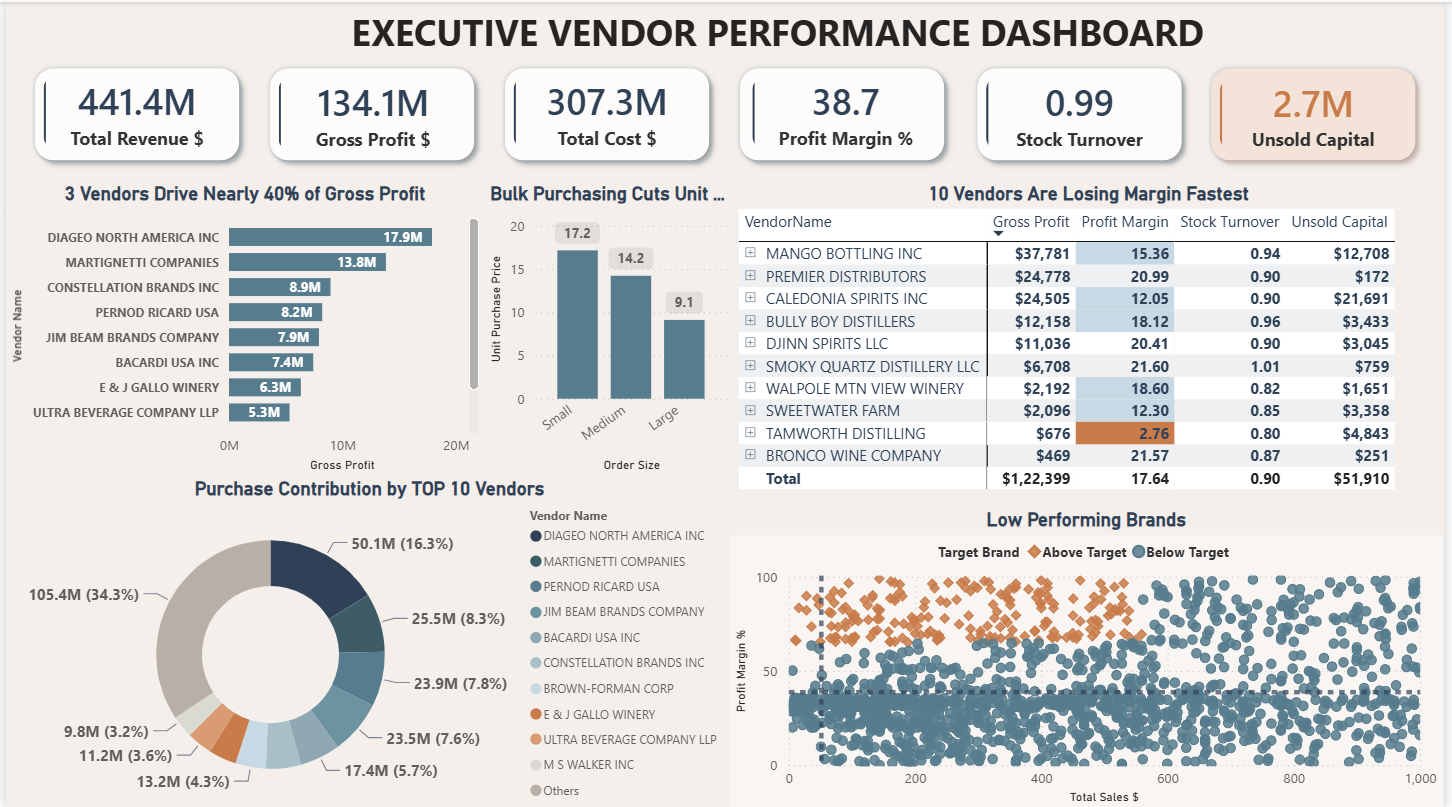

What the dashboard file says about the page in this screenshot:
{"tool":"powerbi","page":{"name":"Page 1","canvas":[1280,720],"ordinal":0},"visuals":[{"type":"shape","box":[644.8,50,200,100],"z":0},{"type":"shape","box":[16.2,50,200,100],"z":1000},{"type":"shape","box":[225.8,50,200,100],"z":2000},{"type":"shape","box":[1063.8,50,200,100],"z":3000},{"type":"shape","box":[435.2,50,200,100],"z":4000},{"type":"cardVisual","fields":{"Data":["Sum(vendor_sales_summary.TotalSalesDollars)"]},"box":[16.2,47.5,200,101.2],"z":5000},{"type":"cardVisual","fields":{"Data":["Sum(vendor_sales_summary.GrossProfit)"]},"box":[226.2,48.8,202.5,102.5],"z":7000},{"type":"cardVisual","fields":{"Data":["Avg(vendor_sales_summary.ProfitMargin)"]},"box":[647.5,48.8,200,100],"z":7500},{"type":"cardVisual","fields":{"Data":["Sum(vendor_sales_summary.TotalPurchaseDollars)"]},"box":[435,48.8,200,100],"z":8000},{"type":"cardVisual","fields":{"Data":["Sum(vendor_sales_summary.UnsoldCapital)"]},"box":[1063.8,50,200,100],"z":9000},{"type":"clusteredBarChart","title":"3 Vendors Drive Nearly 40% of Gross Profit","fields":{"Category":["vendor_sales_summary.VendorName"],"Y":["Sum(vendor_sales_summary.GrossProfit)"]},"box":[0,160.5,425.9,263],"z":10000},{"type":"pivotTable","title":"10 Vendors Are Losing Margin Fastest","fields":{"Rows":["vendor_sales_summary.VendorName","vendor_sales_summary.Description"],"Values":["Sum(vendor_sales_summary.GrossProfit)","Avg(vendor_sales_summary.ProfitMargin)","Avg(vendor_sales_summary.StockTurnover)","Sum(vendor_sales_summary.UnsoldCapital)"]},"box":[647.5,160,632.5,291.2],"z":11000},{"type":"scatterChart","title":"Low Performing Brands","fields":{"X":["BrandPerformance.TotalSales"],"Y":["BrandPerformance.AvgProfitMargin"],"Series":["BrandPerformance.TargetBrand"]},"box":[645,451.2,635,268.8],"z":12000},{"type":"textbox","box":[226.2,0,922.5,56.2],"z":13000},{"type":"donutChart","title":"Purchase Contribution by TOP 10 Vendors","fields":{"Category":["VendorSummary.VendorGroup"],"Y":["Sum(VendorSummary.TotalPurchaseDollars)"]},"box":[0,422.5,647.5,297.5],"z":14000},{"type":"shape","box":[856.2,50,200,100],"z":16500},{"type":"cardVisual","fields":{"Data":["vendor_sales_summary.Vendor Stock Turnover"]},"box":[856.2,48.8,200,101.2],"z":16750},{"type":"clusteredColumnChart","title":"Bulk Purchasing Cuts Unit Cost","fields":{"Category":["vendor_sales_summary.OrderSize"],"Y":["BrandPerformance.Unit Purchase Price"]},"box":[425.9,160.5,222,263],"z":17000}]}

Visuals, with their boxes in screenshot pixels (x1, y1, x2, y2), scaled from the page's 1280x720 canvas onto the 1452x807 screenshot:
shape: 731, 56, 958, 168
shape: 18, 56, 245, 168
shape: 256, 56, 483, 168
shape: 1207, 56, 1434, 168
shape: 494, 56, 721, 168
cardVisual - Sum(vendor_sales_summary.TotalSalesDollars): 18, 53, 245, 167
cardVisual - Sum(vendor_sales_summary.GrossProfit): 257, 55, 486, 170
cardVisual - Avg(vendor_sales_summary.ProfitMargin): 735, 55, 961, 167
cardVisual - Sum(vendor_sales_summary.TotalPurchaseDollars): 493, 55, 720, 167
cardVisual - Sum(vendor_sales_summary.UnsoldCapital): 1207, 56, 1434, 168
"3 Vendors Drive Nearly 40% of Gross Profit" clusteredBarChart: 0, 180, 483, 475
"10 Vendors Are Losing Margin Fastest" pivotTable: 735, 179, 1451, 506
"Low Performing Brands" scatterChart: 732, 506, 1451, 806
textbox: 257, 0, 1303, 63
"Purchase Contribution by TOP 10 Vendors" donutChart: 0, 474, 735, 806
shape: 971, 56, 1198, 168
cardVisual - vendor_sales_summary.Vendor Stock Turnover: 971, 55, 1198, 168
"Bulk Purchasing Cuts Unit Cost" clusteredColumnChart: 483, 180, 735, 475
